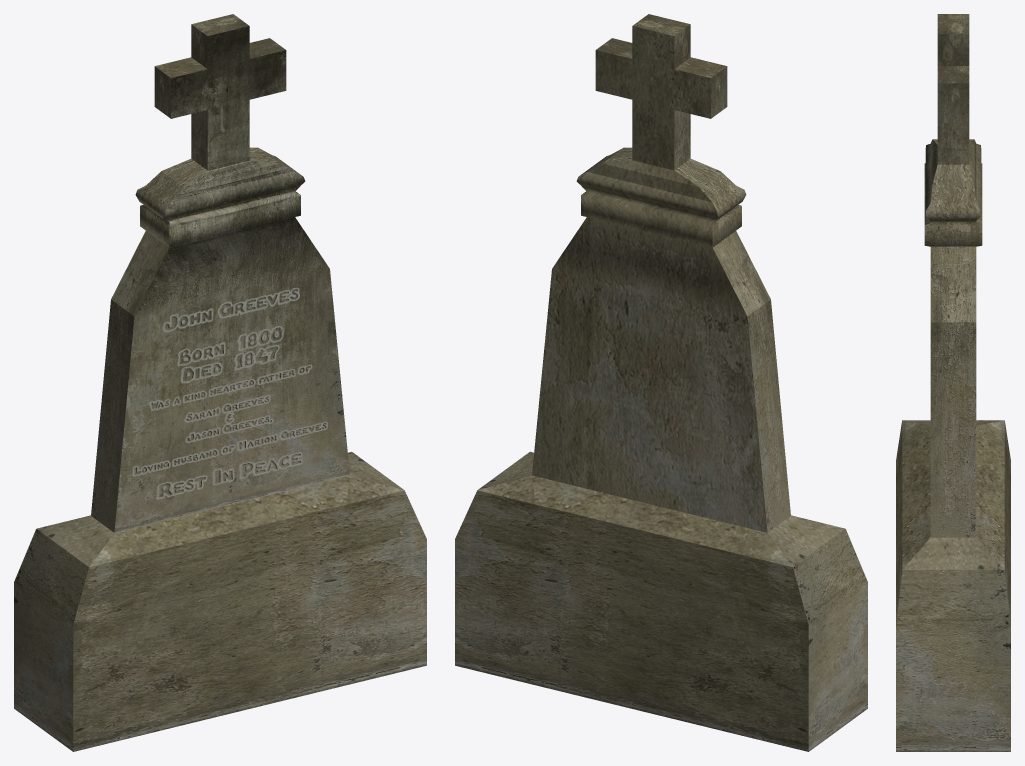
The model's file is Headstone_10.fbx.
3 views of the same model, side by side, from view 1: azimuth 30°, elevation 25°; view 2: azimuth 150°, elevation 25°; view 3: azimuth 270°, elevation 25° (orthographic). The views are drawn at different scales.
Visible parts, largest first — view 1: headstone; view 2: headstone; view 3: headstone.
Boxes of the visible parts, x1,y1,x2,y2 form: headstone: (14, 14, 426, 751); headstone: (455, 14, 867, 751); headstone: (896, 14, 1010, 751).
Bounding box in the file's own units: 1.46 × 2.61 × 0.4219.
